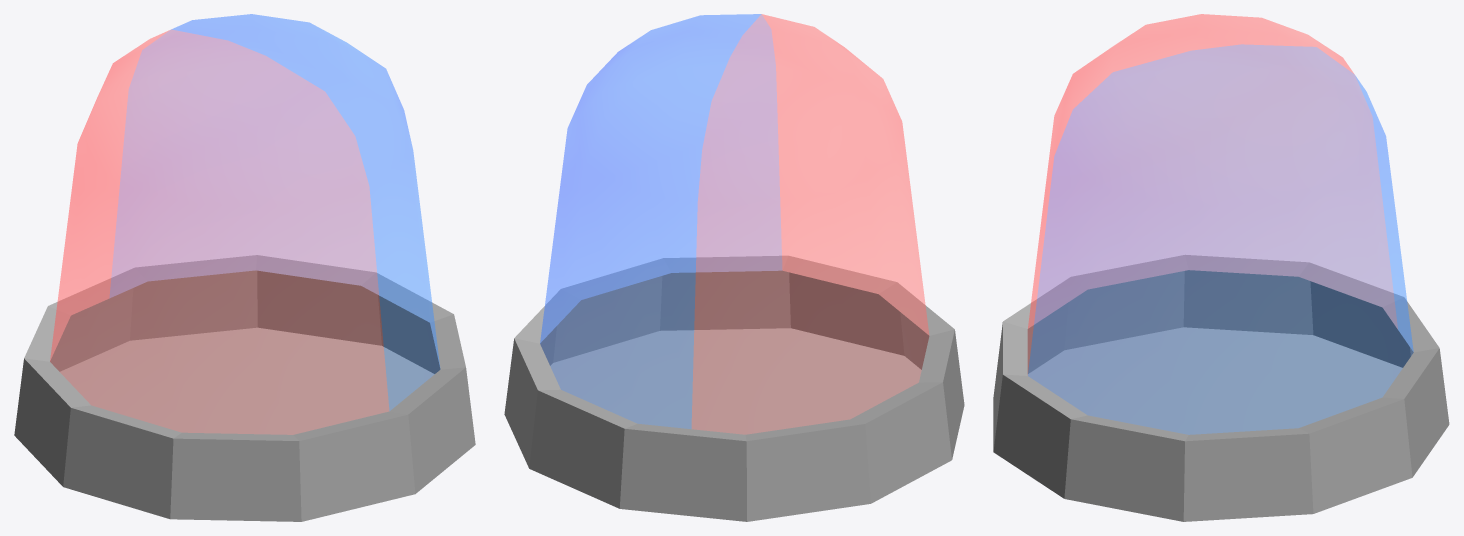
The model's file is police-light.glb.
The picture shows the model from 3 angles, left to right: view 1: azimuth 30°, elevation 25°; view 2: azimuth 150°, elevation 25°; view 3: azimuth 270°, elevation 25°; orthographic projection.
Parts seen in each view (by area): view 1: Cylinder; view 2: Cylinder; view 3: Cylinder.
Part boxes in pixels (x1,y1,x2,y2): Cylinder: (14,14,475,521); Cylinder: (504,14,964,521); Cylinder: (993,14,1449,521).
Bounding box in the file's own units: 2.24 × 2.02 × 2.22.
